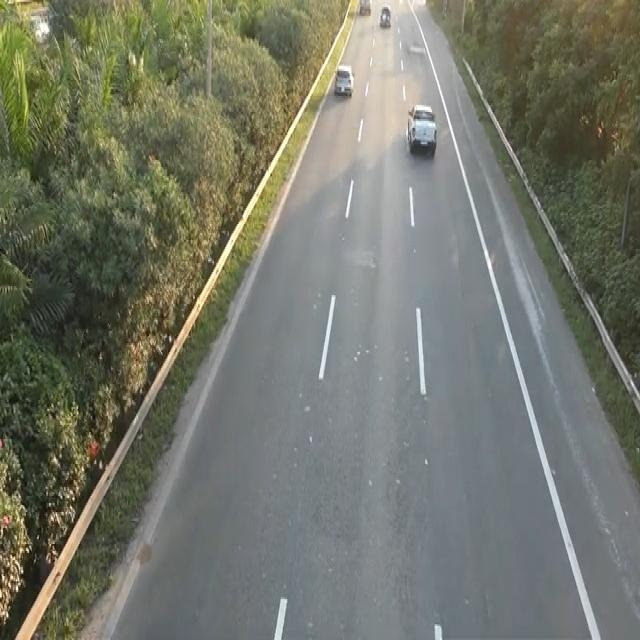bus: (333, 62, 354, 96)
car: (404, 98, 441, 162), (378, 6, 391, 28)
